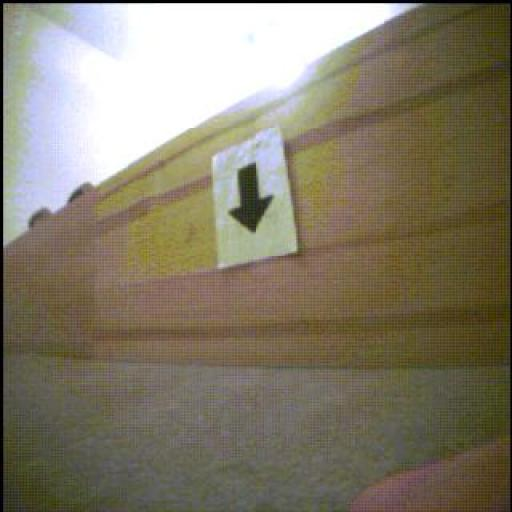arrow: (230, 164, 275, 233)
